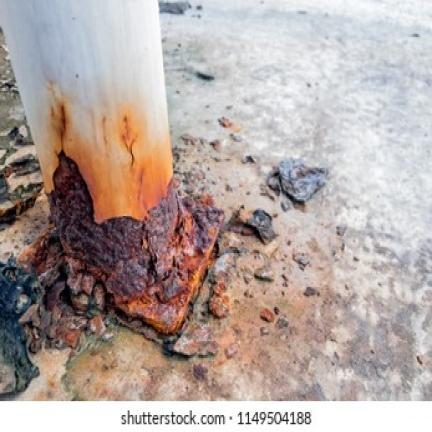karat: (25, 100, 228, 338)
